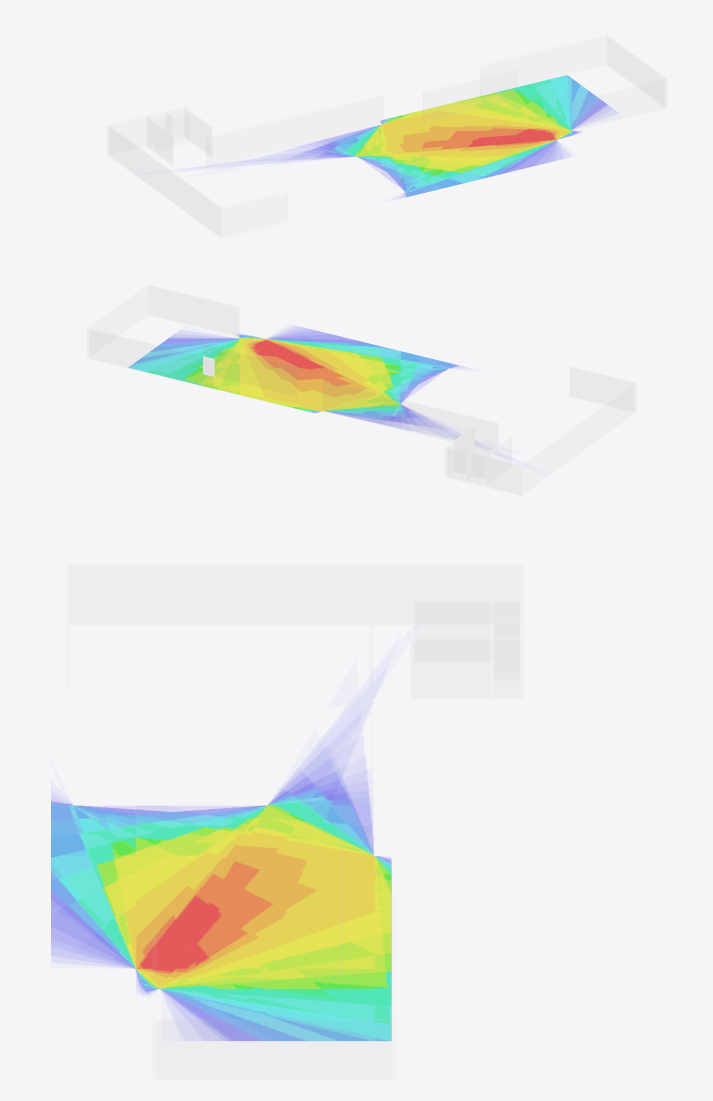
The picture shows the model from 3 angles, top to bottom: view 1: azimuth 30°, elevation 25°; view 2: azimuth 150°, elevation 25°; view 3: azimuth 270°, elevation 25°; orthographic projection. The views are drawn at different scales.
Parts seen in each view (by area): view 1: heatmap_2_balpav_color2, Mesh_3, Mesh_2; view 2: heatmap_2_balpav_color2, Mesh_3, Mesh_2; view 3: heatmap_2_balpav_color2, Mesh_3.
Boxes of the visible parts, x1,y1,x2,y2 form: heatmap_2_balpav_color2: (248, 75, 612, 197); Mesh_3: (109, 112, 189, 154); Mesh_2: (635, 79, 664, 107); heatmap_2_balpav_color2: (128, 327, 461, 429); Mesh_3: (448, 384, 633, 485); Mesh_2: (89, 329, 118, 357); heatmap_2_balpav_color2: (51, 715, 391, 1041); Mesh_3: (414, 601, 519, 680).
Bounding box in the file's own units: 2.01 × 0.108 × 1.
5 materials, 1 textured.
